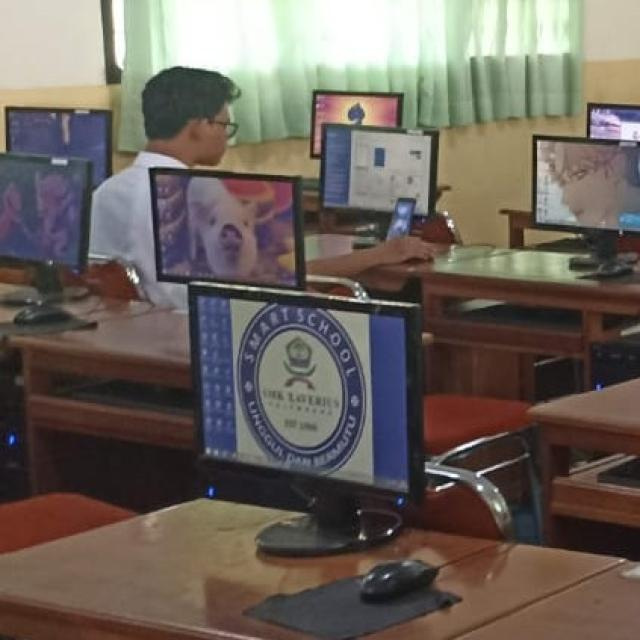onscreen: (199, 290, 422, 492), (150, 169, 302, 287), (323, 126, 437, 217), (533, 136, 639, 232), (0, 154, 90, 267), (311, 90, 403, 157)
